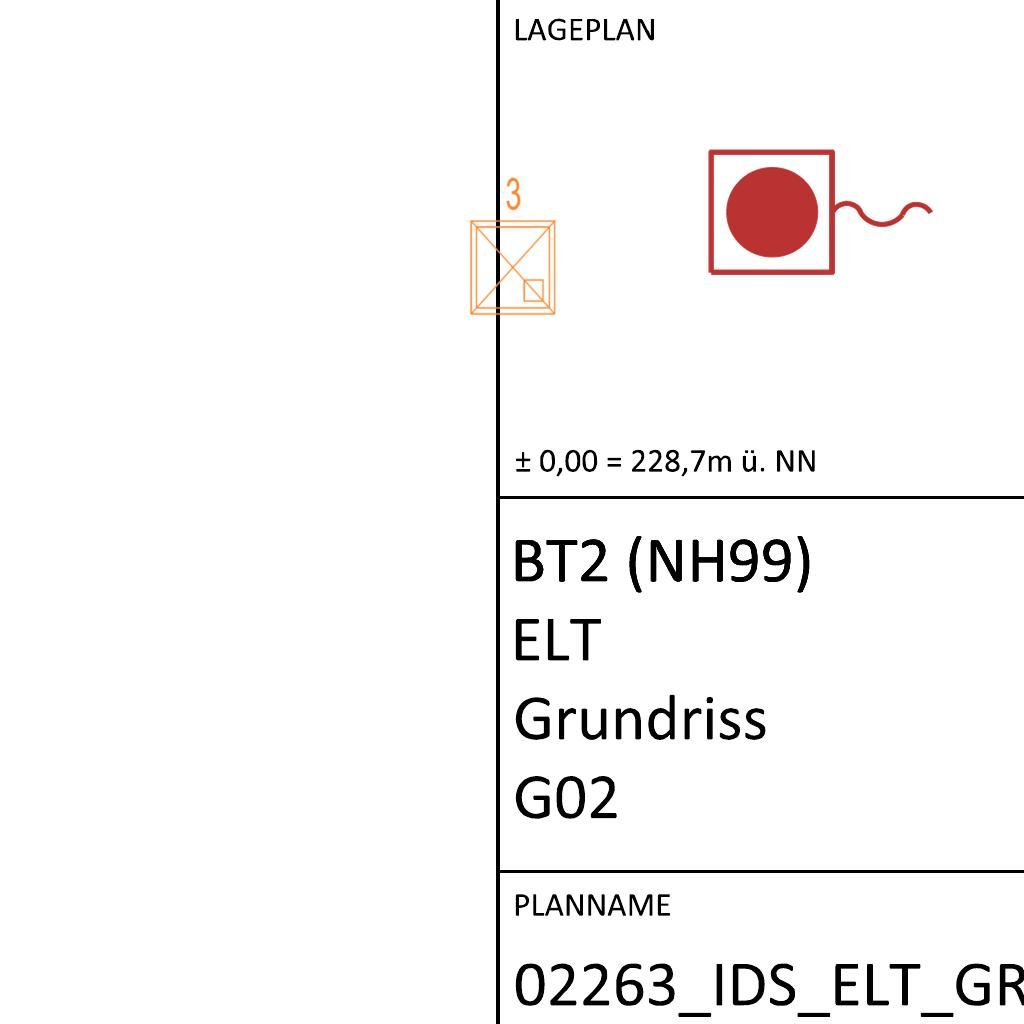Einbaudownlights_LED_Konferenzraeume: (459, 172, 563, 322)
Zugtaster: (700, 142, 944, 286)
